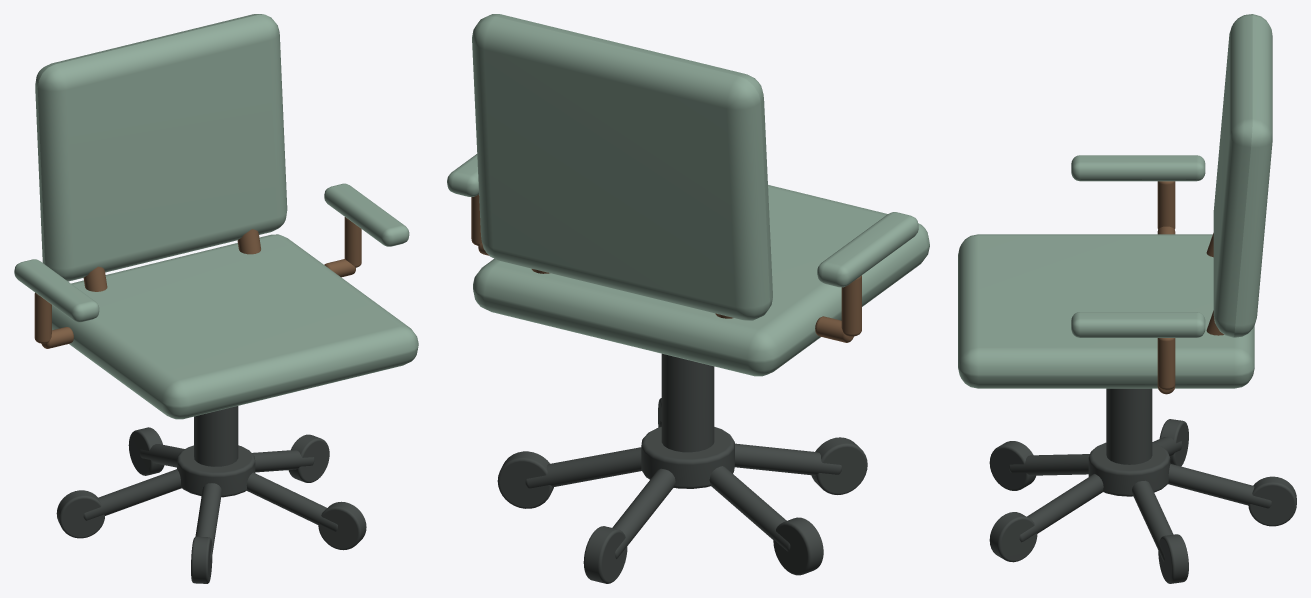
Rendered from chair.glb.
3 renders of one model, left to right at view 1: azimuth 30°, elevation 25°; view 2: azimuth 150°, elevation 25°; view 3: azimuth 270°, elevation 25°, orthographic. The views are drawn at different scales.
Visible parts, largest first — view 1: Chair Padded Back, Chair Padded Seat, Armrest Pad, Armrest Pad.001, Chair Hub, Chair Stem, Caster Arm.002, Caster Arm.004, Caster Wheel.002, Caster Wheel.004, Caster Wheel, Caster Arm.003 (+6 smaller); view 2: Chair Padded Back, Chair Padded Seat, Chair Stem, Armrest Pad, Chair Hub, Caster Arm, Caster Arm.003, Caster Wheel, Caster Arm.002, Caster Wheel.003, Caster Wheel.002, Caster Arm.001 (+4 smaller); view 3: Chair Padded Seat, Chair Padded Back, Armrest Pad, Chair Stem, Armrest Pad.001, Chair Hub, Caster Arm.001, Caster Arm.004, Caster Wheel.001, Caster Wheel.004, Caster Wheel.003, Caster Arm.003 (+5 smaller).
Boxes of the visible parts, x1,y1,x2,y2 form: Chair Padded Back: (35, 14, 287, 281); Chair Padded Seat: (52, 234, 418, 419); Armrest Pad: (14, 259, 99, 322); Armrest Pad.001: (324, 183, 409, 246); Chair Hub: (177, 445, 255, 497); Chair Stem: (194, 406, 238, 466); Caster Arm.002: (83, 469, 181, 520); Caster Arm.004: (246, 472, 337, 531); Caster Wheel.002: (56, 490, 104, 538); Caster Wheel.004: (318, 501, 366, 550); Caster Wheel: (288, 434, 329, 482); Caster Arm.003: (195, 483, 221, 561); Chair Padded Back: (472, 14, 772, 320); Chair Padded Seat: (473, 185, 929, 376); Chair Stem: (661, 353, 714, 452); Armrest Pad: (817, 212, 918, 287); Chair Hub: (641, 427, 734, 488); Caster Arm: (525, 447, 641, 488); Caster Arm.003: (734, 443, 841, 475); Caster Wheel: (497, 451, 553, 508); Caster Arm.002: (709, 466, 790, 551); Caster Wheel.003: (811, 437, 867, 494); Caster Wheel.002: (773, 517, 823, 575); Caster Arm.001: (612, 468, 675, 558); Chair Padded Seat: (958, 234, 1254, 388); Chair Padded Back: (1213, 14, 1272, 337); Armrest Pad: (1071, 155, 1205, 181); Chair Stem: (1106, 388, 1152, 464); Armrest Pad.001: (1071, 312, 1205, 337); Chair Hub: (1088, 442, 1170, 496); Caster Arm.001: (1168, 463, 1271, 508); Caster Arm.004: (1019, 474, 1103, 542); Caster Wheel.001: (1248, 476, 1296, 526); Caster Wheel.004: (989, 512, 1037, 562); Caster Wheel.003: (989, 441, 1035, 490); Caster Arm.003: (1009, 454, 1089, 475).
Bounding box in the file's own units: 0.315 × 0.3937 × 0.265.
